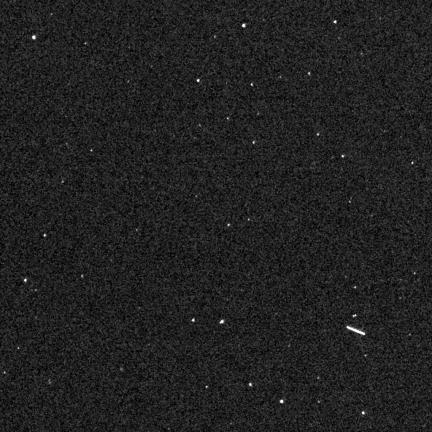blob: (362, 411, 366, 416), (242, 24, 246, 28), (220, 320, 224, 323), (197, 79, 200, 83), (192, 319, 195, 323), (33, 36, 36, 40), (334, 20, 337, 23), (249, 383, 252, 386), (280, 400, 283, 403)
